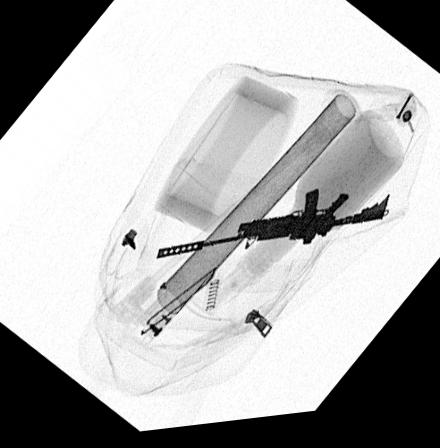Gun: (153, 194, 389, 262)
